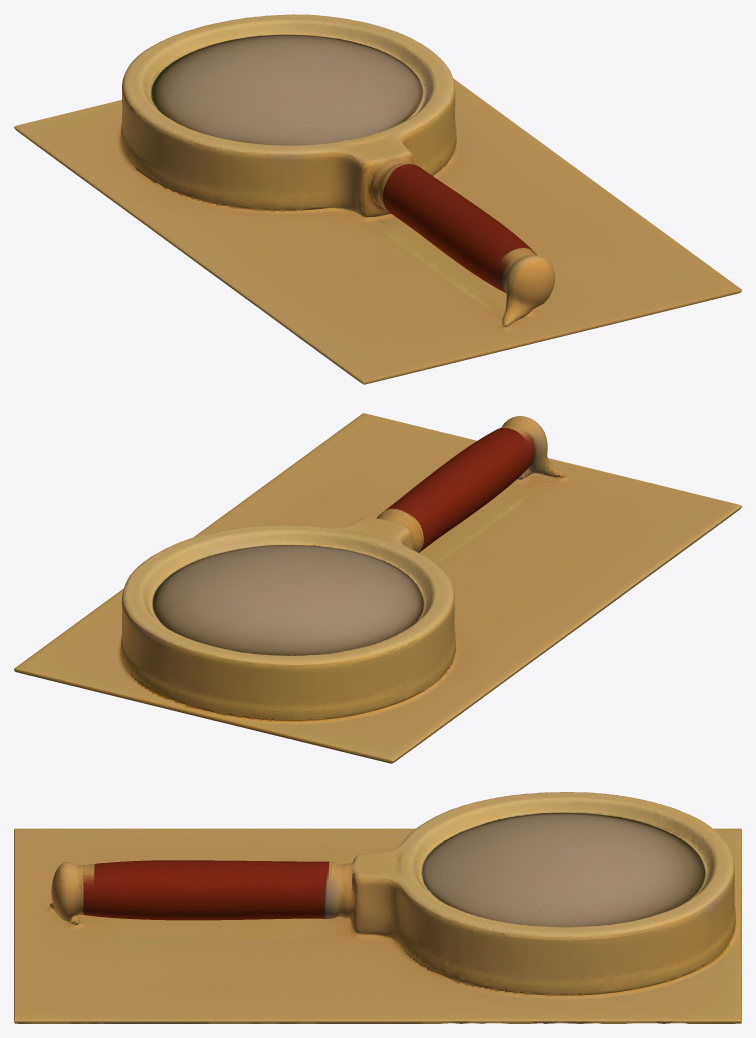
The model's file is golden-plated-magnifying-glass.glb.
3 renders of one model, top to bottom at view 1: azimuth 30°, elevation 25°; view 2: azimuth 150°, elevation 25°; view 3: azimuth 270°, elevation 25°, orthographic. The views are drawn at different scales.
Visible parts, largest first — view 1: textured_mesh.obj; view 2: textured_mesh.obj; view 3: textured_mesh.obj.
Part boxes in pixels (<box>): textured_mesh.obj: <box>14,14,741,384</box>; textured_mesh.obj: <box>14,413,741,763</box>; textured_mesh.obj: <box>14,792,741,1023</box>.
Bounding box in the file's own units: 1.24 × 0.2628 × 1.98.
Materials: 1 (1 with a texture image).
